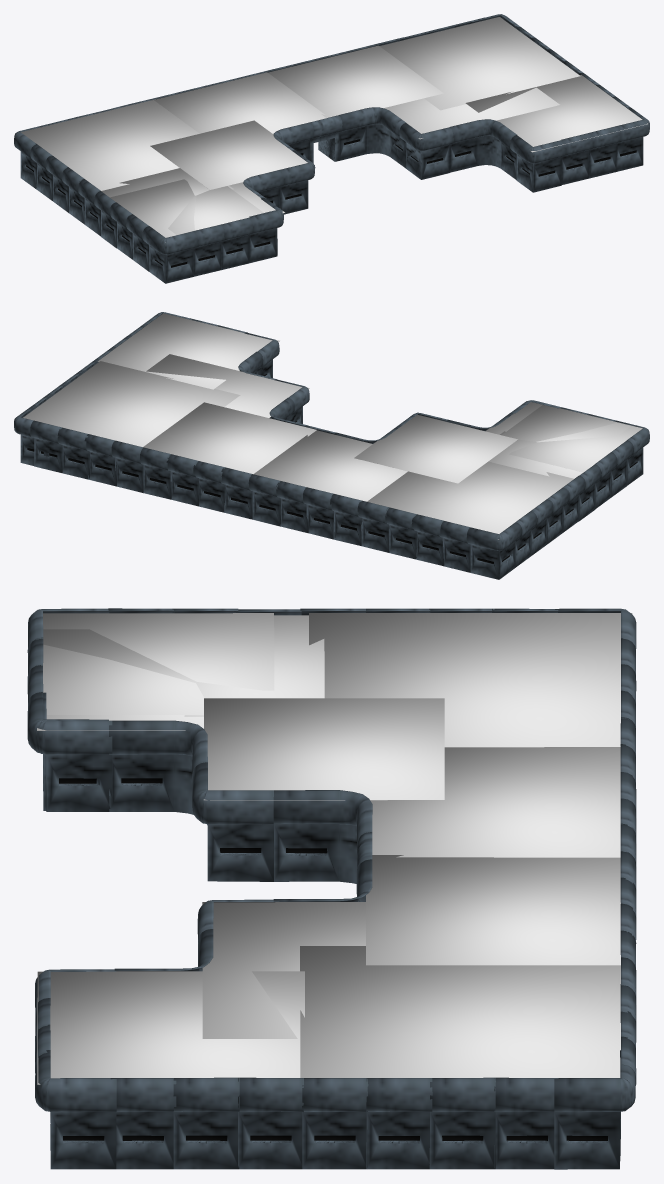
Rendered from Bunker.fbx.
3 views of the same model, one above another, from view 1: azimuth 30°, elevation 25°; view 2: azimuth 150°, elevation 25°; view 3: azimuth 270°, elevation 25° (orthographic). The views are drawn at different scales.
Visible parts, largest first — view 1: BunkerCorner.Inner.001; view 2: BunkerCorner.Inner.001; view 3: BunkerCorner.Inner.001.
Boxes of the visible parts, x1=… form: BunkerCorner.Inner.001: x1=14, y1=14, x2=649, y2=283; BunkerCorner.Inner.001: x1=14, y1=312, x2=649, y2=579; BunkerCorner.Inner.001: x1=27, y1=608, x2=636, y2=1169.
Bounding box in the file's own units: 5214 × 470 × 2793.
